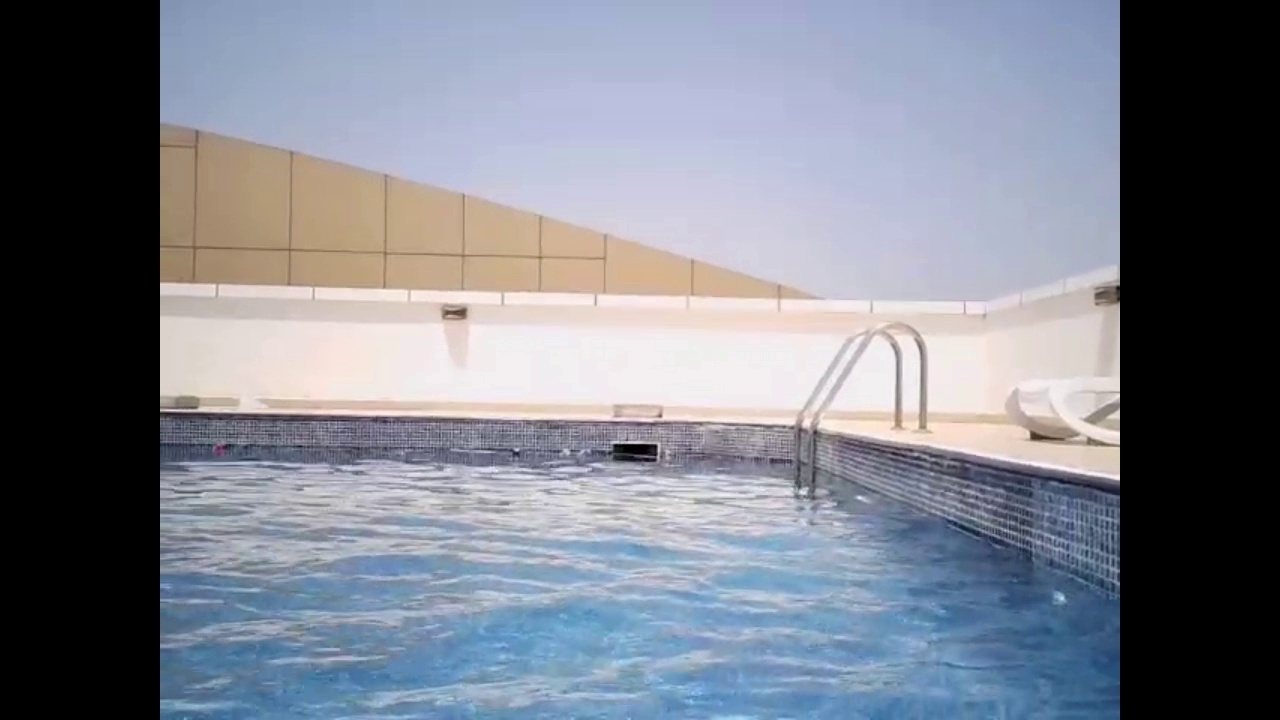debris: (206, 441, 230, 458), (570, 446, 594, 460), (554, 445, 574, 458), (508, 445, 521, 461)
